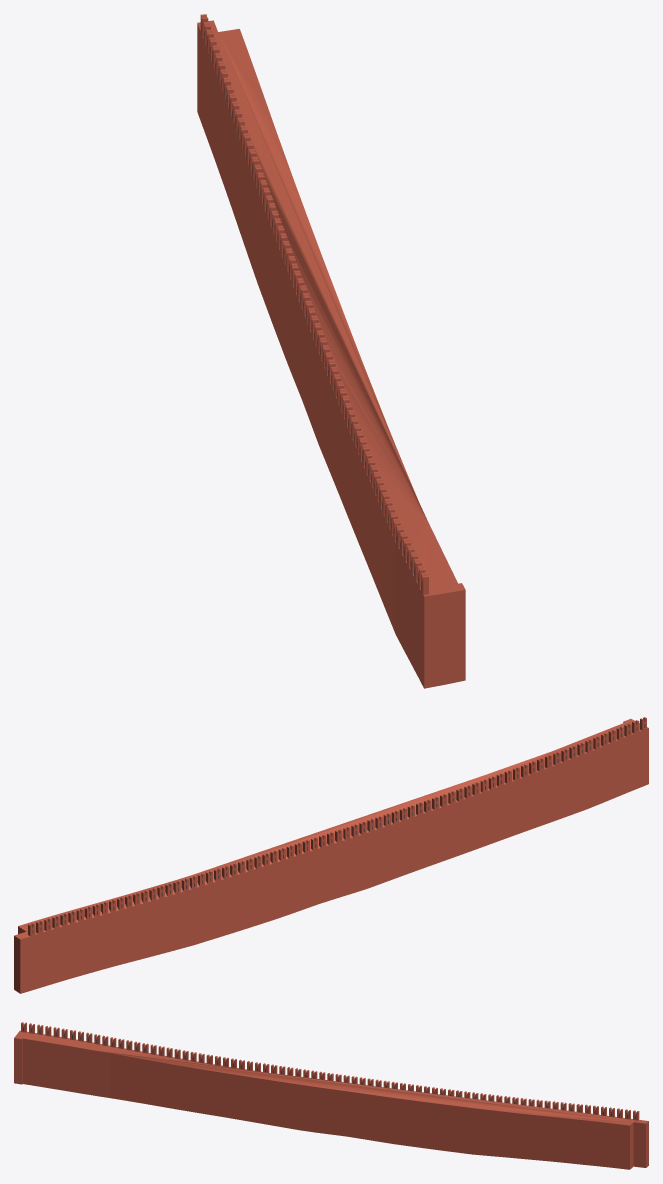
Rendered from moscow-kremlin-wall-middle-arsenal-trinity.glb.
3 views of the same model, one above another, from view 1: azimuth 30°, elevation 25°; view 2: azimuth 150°, elevation 25°; view 3: azimuth 270°, elevation 25° (orthographic). The views are drawn at different scales.
Parts seen in each view (by area): view 1: Kremlin Wall, Middle Arsenal Tower to Trinity Tower; view 2: Kremlin Wall, Middle Arsenal Tower to Trinity Tower; view 3: Kremlin Wall, Middle Arsenal Tower to Trinity Tower.
Part boxes in pixels (<box>): Kremlin Wall, Middle Arsenal Tower to Trinity Tower: <box>197,14,465,688</box>; Kremlin Wall, Middle Arsenal Tower to Trinity Tower: <box>14,717,648,993</box>; Kremlin Wall, Middle Arsenal Tower to Trinity Tower: <box>14,1022,648,1169</box>.
Bounding box in the file's own units: 57.22 × 16.94 × 148.
